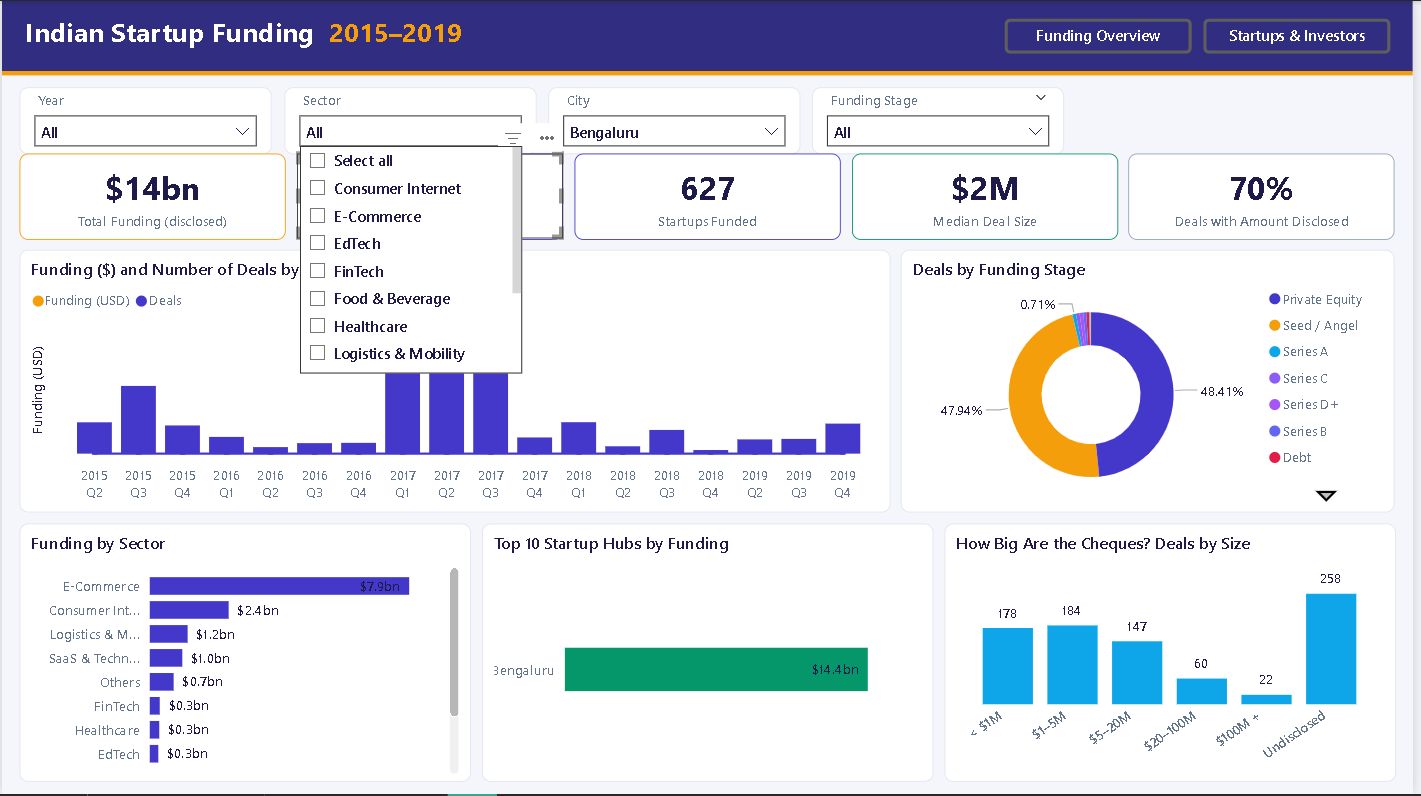

The page's visual inventory and layout, read from the dashboard file:
{"tool":"powerbi","page":{"name":"Funding Overview","canvas":[1280,720],"ordinal":0},"visuals":[{"type":"shape","box":[0,0,1280,64],"z":1000},{"type":"shape","box":[0,64,1280,4],"z":2000},{"type":"textbox","box":[16.3,5.8,659.3,58.1],"z":3000},{"type":"actionButton","box":[910,16,170,32],"z":5000},{"type":"actionButton","box":[1090,16,170,32],"z":6000},{"type":"slicer","fields":{"Values":["Deals.Year"]},"box":[16.3,77.9,229.1,60.5],"z":7000},{"type":"slicer","fields":{"Values":["Deals.Sector"]},"box":[255.8,77.9,229.1,60.5],"z":8000},{"type":"slicer","fields":{"Values":["Deals.City"]},"box":[495.4,77.9,229.1,60.5],"z":9000},{"type":"slicer","fields":{"Values":["Deals.Funding Stage"]},"box":[734.9,77.9,229.1,60.5],"z":10000},{"type":"card","fields":{"Values":["Deals.Total Funding"]},"box":[16,138,241.6,78],"z":12000},{"type":"card","fields":{"Values":["Deals.Deals"]},"box":[267.6,138,241.6,78],"z":13000},{"type":"card","fields":{"Values":["Deals.Startups Funded"]},"box":[519.2,138,241.6,78],"z":14000},{"type":"card","fields":{"Values":["Deals.Median Deal Size"]},"box":[770.8,138,241.6,78],"z":15000},{"type":"card","fields":{"Values":["Deals.Disclosed Deals %"]},"box":[1022.4,138,241.6,78],"z":16000},{"type":"lineClusteredColumnComboChart","title":"Funding ($) and Number of Deals by Quarter","fields":{"Category":["Deals.Quarter"],"Y":["Deals.Total Funding"],"Y2":["Deals.Deals"]},"box":[16,226,790,238],"z":17000},{"type":"donutChart","title":"Deals by Funding Stage","fields":{"Category":["Deals.Funding Stage"],"Y":["Deals.Deals"]},"box":[816,226,448,238],"z":18000},{"type":"clusteredBarChart","title":"Funding by Sector","fields":{"Category":["Deals.Sector"],"Y":["Deals.Total Funding"]},"box":[16,474,409.3,234],"z":19000},{"type":"clusteredBarChart","title":"Top 10 Startup Hubs by Funding","fields":{"Category":["Deals.City"],"Y":["Deals.Top 10 Cities by Funding"]},"box":[435.3,474,409.3,234],"z":20000},{"type":"clusteredColumnChart","title":"How Big Are the Cheques? Deals by Size","fields":{"Category":["Deals.Deal Size"],"Y":["Deals.Deals"]},"box":[854.7,474,409.3,234],"z":21000}]}

Visuals, with their boxes in screenshot pixels (x1, y1, x2, y2), scaled from the page's 1280x720 canvas onto the 1421x796 screenshot:
shape: <region>0, 0, 1420, 71</region>
shape: <region>0, 71, 1420, 75</region>
textbox: <region>18, 6, 750, 71</region>
actionButton: <region>1010, 18, 1199, 53</region>
actionButton: <region>1210, 18, 1399, 53</region>
slicer - Deals.Year: <region>18, 86, 272, 153</region>
slicer - Deals.Sector: <region>284, 86, 538, 153</region>
slicer - Deals.City: <region>550, 86, 804, 153</region>
slicer - Deals.Funding Stage: <region>816, 86, 1070, 153</region>
card - Deals.Total Funding: <region>18, 153, 286, 239</region>
card - Deals.Deals: <region>297, 153, 565, 239</region>
card - Deals.Startups Funded: <region>576, 153, 845, 239</region>
card - Deals.Median Deal Size: <region>856, 153, 1124, 239</region>
card - Deals.Disclosed Deals %: <region>1135, 153, 1403, 239</region>
"Funding ($) and Number of Deals by Quarter" lineClusteredColumnComboChart: <region>18, 250, 895, 513</region>
"Deals by Funding Stage" donutChart: <region>906, 250, 1403, 513</region>
"Funding by Sector" clusteredBarChart: <region>18, 524, 472, 783</region>
"Top 10 Startup Hubs by Funding" clusteredBarChart: <region>483, 524, 938, 783</region>
"How Big Are the Cheques? Deals by Size" clusteredColumnChart: <region>949, 524, 1403, 783</region>
